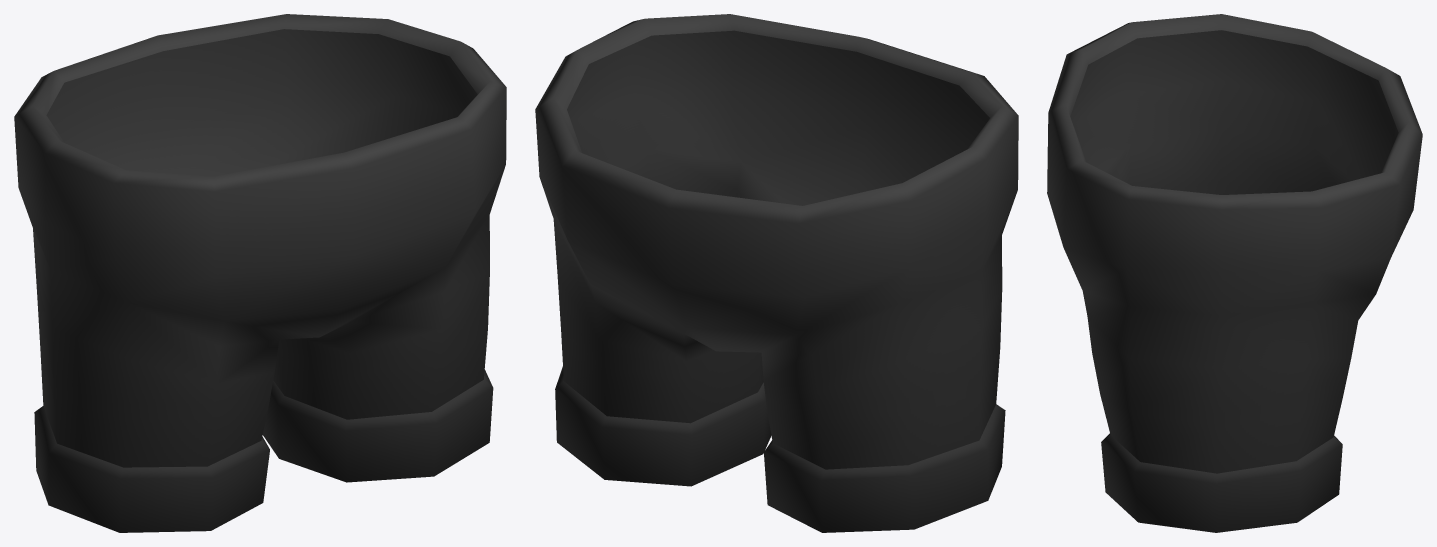
The model's file is Bottom_2.fbx.
3 views of the same model, side by side, from view 1: azimuth 30°, elevation 25°; view 2: azimuth 150°, elevation 25°; view 3: azimuth 270°, elevation 25° (orthographic). The views are drawn at different scales.
Parts seen in each view (by area): view 1: Bottom_2; view 2: Bottom_2; view 3: Bottom_2.
Boxes of the visible parts, left/top/right/bottom form: Bottom_2: left=14, top=14, right=506, bottom=532; Bottom_2: left=535, top=14, right=1018, bottom=532; Bottom_2: left=1047, top=14, right=1422, bottom=532.
Bounding box in the file's own units: 37.99 × 32.12 × 31.34.
